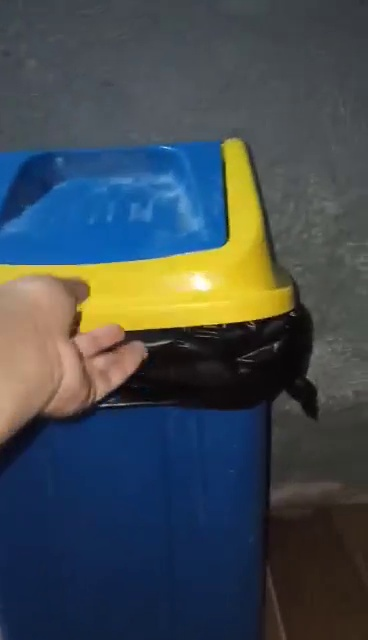garbagebin: (1, 135, 319, 640)
